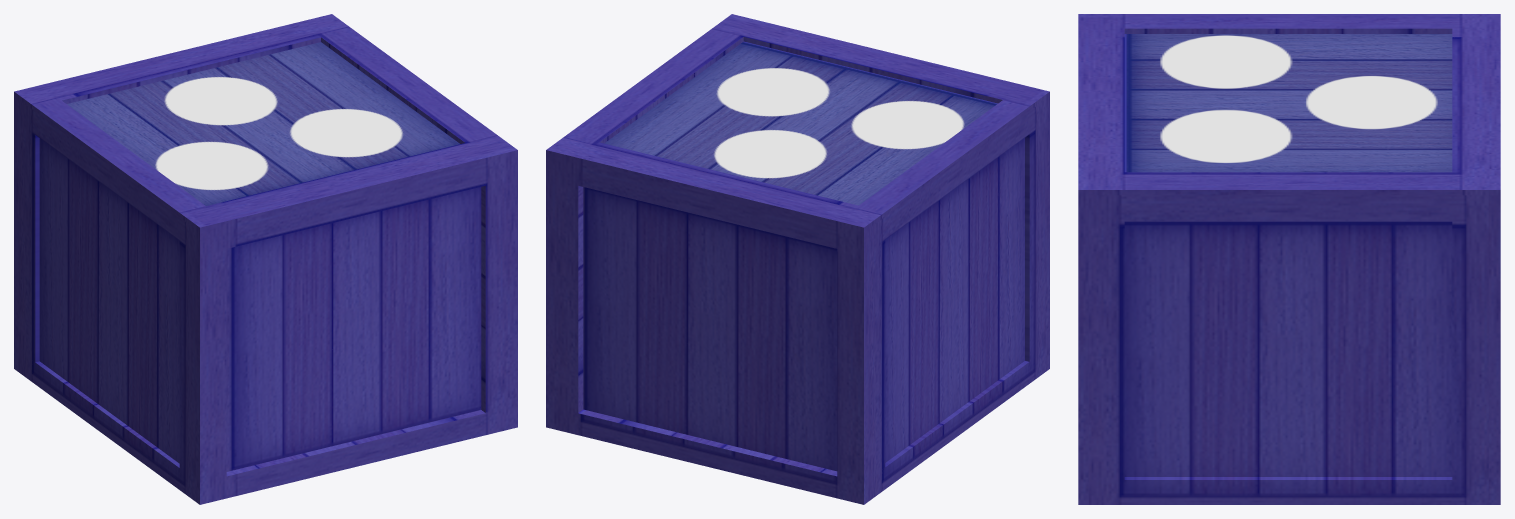
File: Caja AMMO.FBX
The picture shows the model from 3 angles, left to right: view 1: azimuth 30°, elevation 25°; view 2: azimuth 150°, elevation 25°; view 3: azimuth 270°, elevation 25°; orthographic projection. The views are drawn at different scales.
Visible parts, largest first — view 1: Box056; view 2: Box056; view 3: Box056.
Part boxes in pixels (x1,y1,x2,y2): Box056: (14,14,517,504); Box056: (546,14,1049,504); Box056: (1078,14,1500,504).
Bounding box in the file's own units: 31.25 × 26.04 × 31.64.
